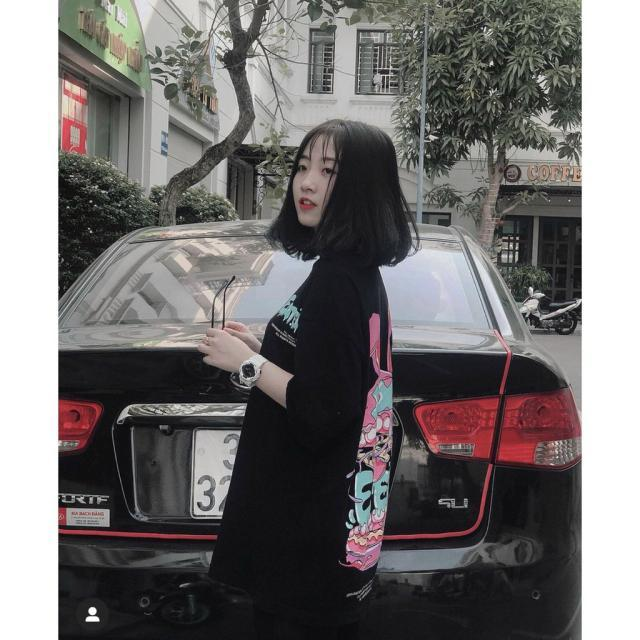Shirt: (203, 238, 396, 610)
